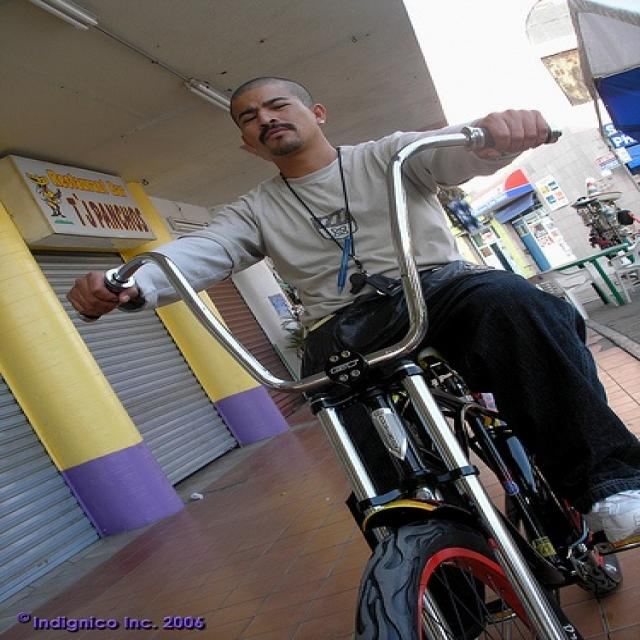bicycle: (75, 126, 621, 638)
